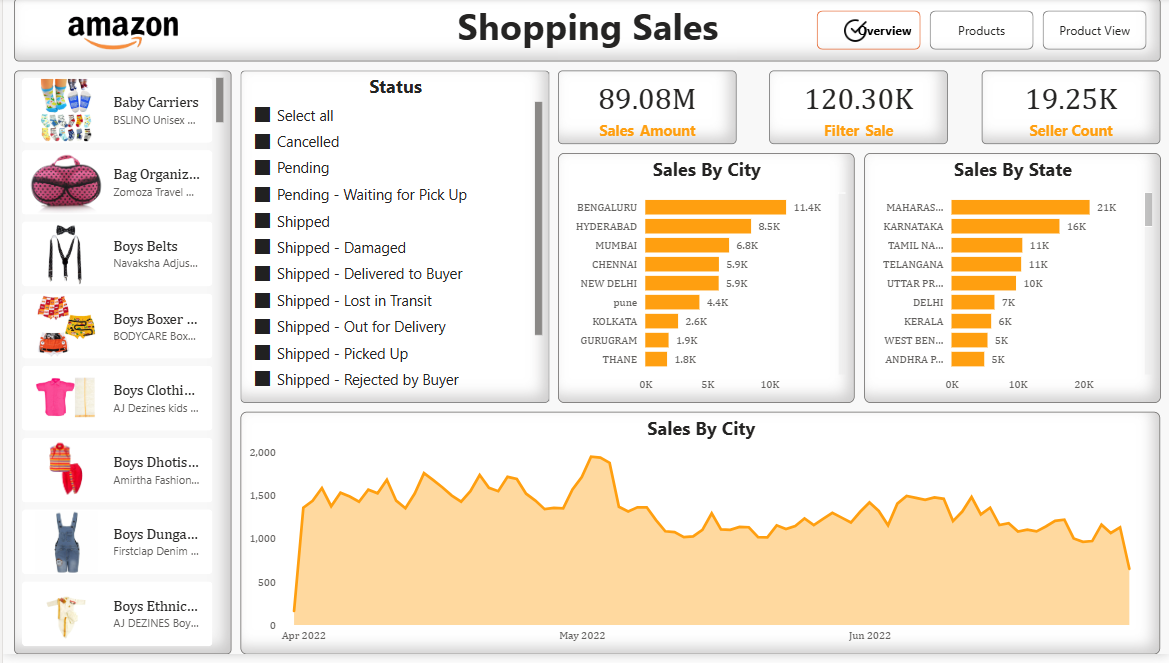

The dashboard page shown, as its layout file describes it:
{"tool":"powerbi","page":{"name":"Overview","canvas":[1280,720],"ordinal":0},"visuals":[{"type":"advancedSlicerVisual","fields":{"Values":["amazon-fashion - YT.Category"]},"box":[12.3,79.6,238.8,640.8],"z":0},{"type":"shape","title":"Shopping Sales","box":[12.3,0,1258.3,70],"z":1000},{"type":"image","box":[12.3,0,238.8,70],"z":2000},{"type":"pageNavigator","box":[893.3,13.7,362.3,43.9],"z":3000},{"type":"image","box":[918,20.6,35.7,30.2],"z":4000},{"type":"slicer","title":"Status","fields":{"Values":["Amazon (2).Status"]},"box":[260.7,79.6,338.9,365],"z":5000},{"type":"clusteredBarChart","title":"Sales By City","fields":{"Y":["Amazon (2).Filter_Sale"],"Category":["Amazon (2).ship-city"]},"box":[609.3,170.2,325.2,274.4],"z":6000},{"type":"clusteredBarChart","title":"Sales By State","fields":{"Category":["Amazon (2).ship-state"],"Y":["Amazon (2).Filter_Sale"]},"box":[945.5,170.2,325.2,274.4],"z":7000},{"type":"areaChart","title":"Sales By City","fields":{"Category":["Amazon (2).Date.Variation.Date Hierarchy.Year","Amazon (2).Date.Variation.Date Hierarchy.Quarter","Amazon (2).Date.Variation.Date Hierarchy.Month","Amazon (2).Date.Variation.Date Hierarchy.Day"],"Y":["Amazon (2).Filter_Sale"]},"box":[260.7,454.2,1010,266.2],"z":8000},{"type":"card","fields":{"Values":["Amazon (2).Sales_Amount"]},"box":[609.3,79.6,196.2,81],"z":9000},{"type":"card","fields":{"Values":["Amazon (2).Filter_Sale"]},"box":[841.9,79.6,196.2,81],"z":10000},{"type":"card","fields":{"Values":["Amazon (2).Order_Count"]},"box":[1074.4,79.6,196.2,81],"z":11000}]}

Visuals, with their boxes in screenshot pixels (x1, y1, x2, y2), scaled from the page's 1280x720 canvas onto the 1169x663 screenshot:
advancedSlicerVisual - amazon-fashion - YT.Category: x1=11, y1=73, x2=229, y2=662
"Shopping Sales" shape: x1=11, y1=0, x2=1160, y2=64
image: x1=11, y1=0, x2=229, y2=64
pageNavigator: x1=816, y1=13, x2=1147, y2=53
image: x1=838, y1=19, x2=871, y2=47
"Status" slicer: x1=238, y1=73, x2=548, y2=409
"Sales By City" clusteredBarChart: x1=556, y1=157, x2=853, y2=409
"Sales By State" clusteredBarChart: x1=864, y1=157, x2=1161, y2=409
"Sales By City" areaChart: x1=238, y1=418, x2=1161, y2=662
card - Amazon (2).Sales_Amount: x1=556, y1=73, x2=736, y2=148
card - Amazon (2).Filter_Sale: x1=769, y1=73, x2=948, y2=148
card - Amazon (2).Order_Count: x1=981, y1=73, x2=1160, y2=148
